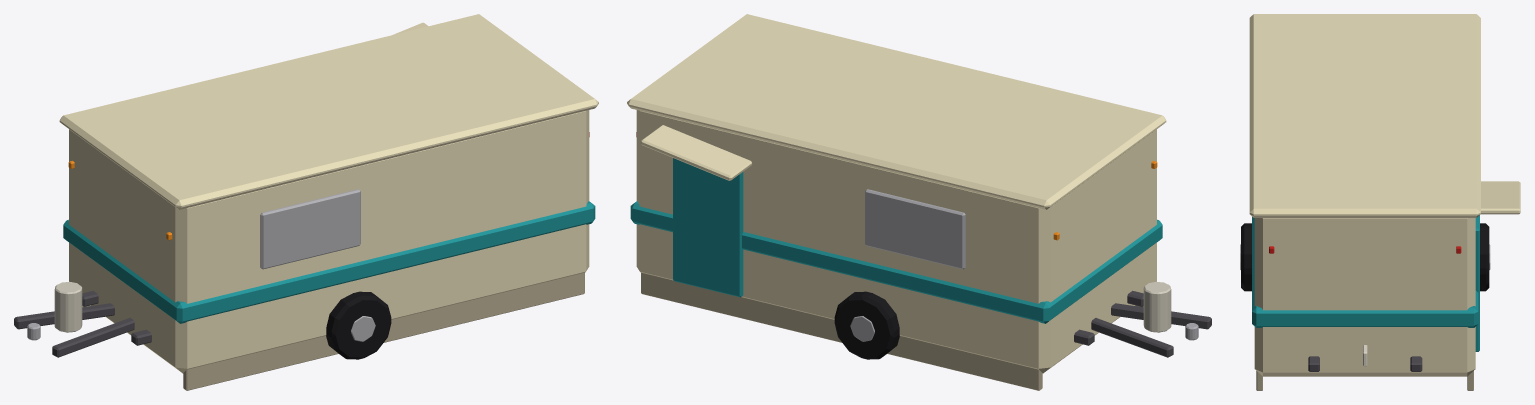
File: trailer_small.glb
3 renders of one model, left to right at view 1: azimuth 30°, elevation 25°; view 2: azimuth 150°, elevation 25°; view 3: azimuth 270°, elevation 25°, orthographic. The views are drawn at different scales.
Visible parts, largest first — view 1: trailer_small; view 2: trailer_small; view 3: trailer_small.
Part boxes in pixels (bbox=[...]): trailer_small: bbox=[14, 14, 598, 390]; trailer_small: bbox=[627, 14, 1211, 390]; trailer_small: bbox=[1240, 14, 1520, 390].
Bounding box in the file's own units: 6.84 × 2.47 × 3.3.
